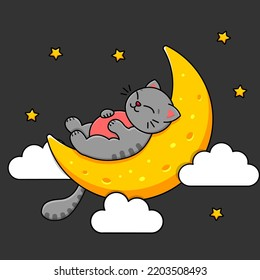cat: (66, 78, 183, 161)
cloud: (178, 143, 260, 189), (89, 191, 164, 234), (8, 139, 71, 180)
